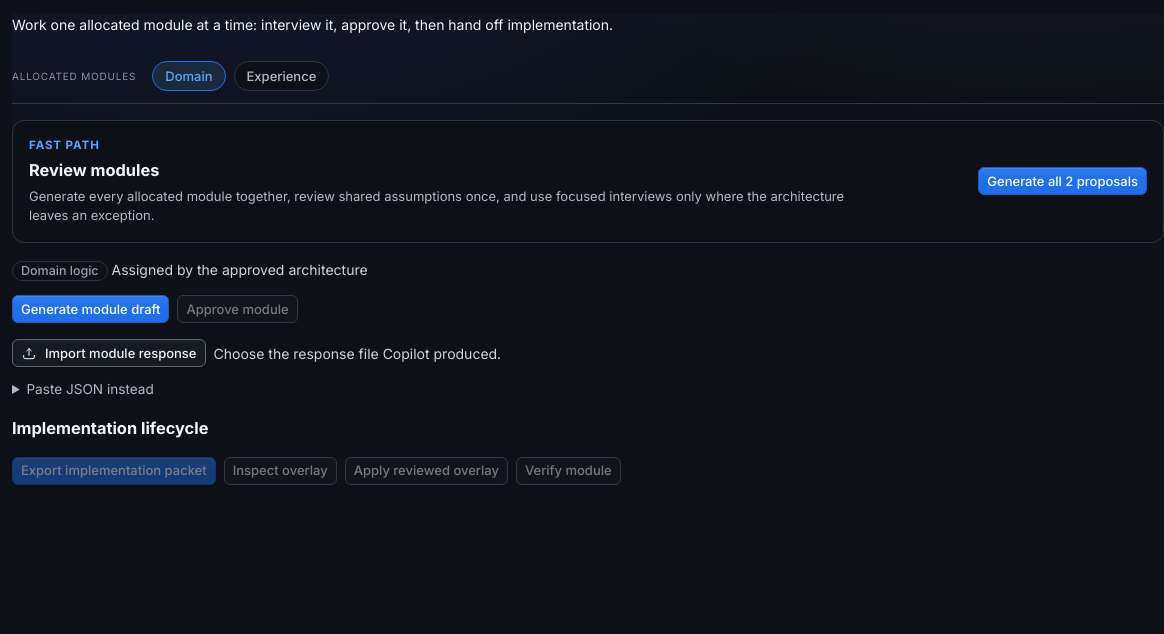
architecture-wide module fast path › generates, explicitly approves, plans, and exports one wave handoff
The width and height of the screenshot is (1164, 634).
Click the button "Generate all 2 proposals". click: click(1063, 181)
box: [978,167,1147,195]
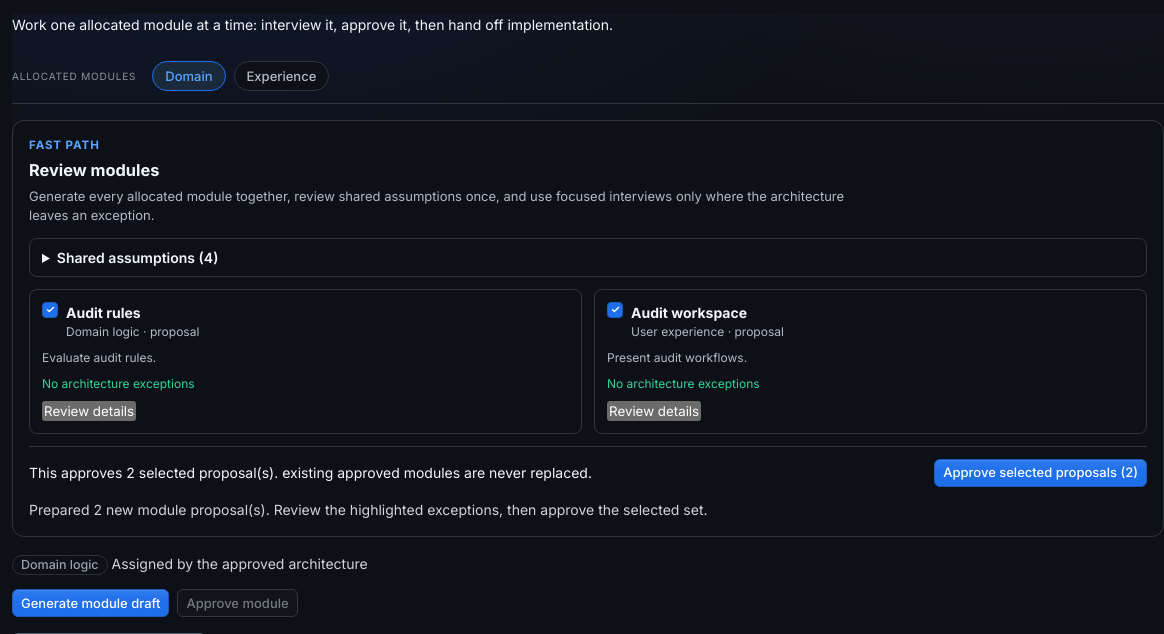
Expected: the heading "Shared assumptions (4)" is shown, [57,249,218,266]
Click the button "Approve selected proposals (2)". click: click(1041, 473)
box: [934,459,1147,487]
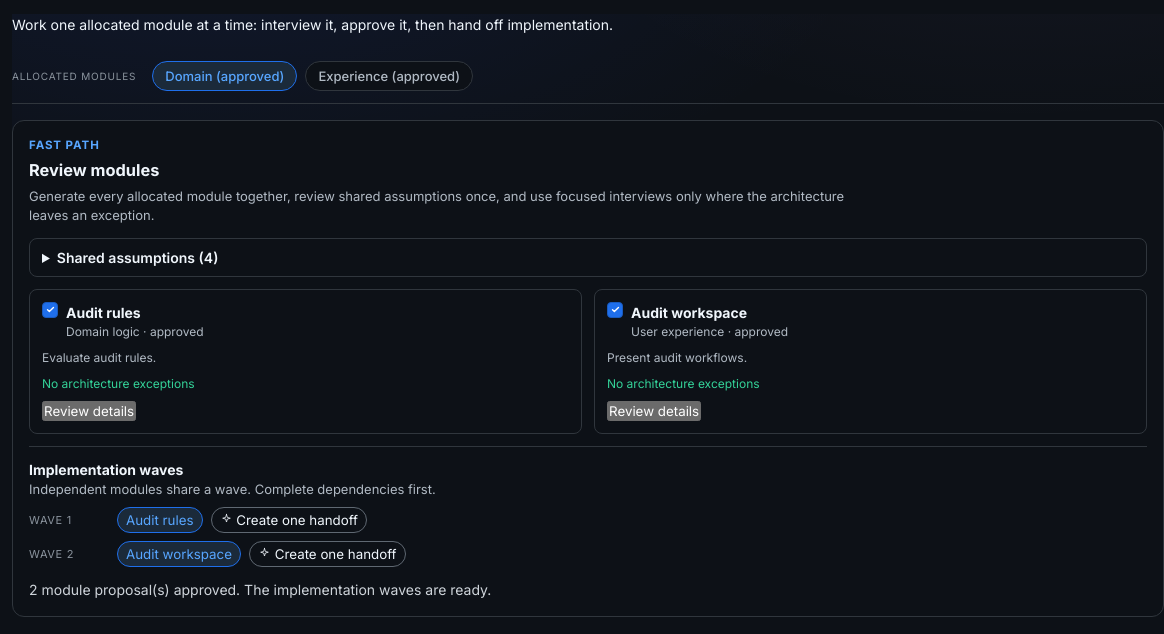
Expected: the text "2 module proposal(s) approved. The implementation waves are ready." is shown, [29,581,491,598]
Expected: the text "Wave 1" is shown, [29,513,72,527]
Click the 1st button "Create one handoff". click: click(289, 520)
box: [210,507,367,533]
(page scrolled)
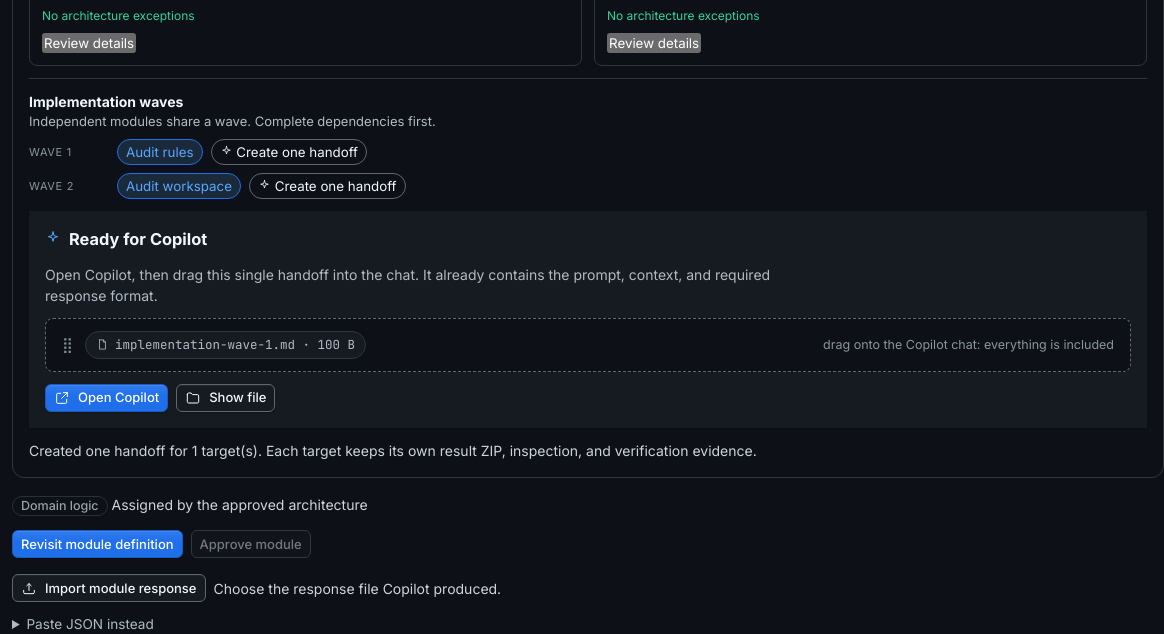
Expected: the element "Ready for Copilot" is shown, [29,211,1147,428]
Expected: the text "Each target keeps its own result ZIP" is shown, [29,442,757,459]
